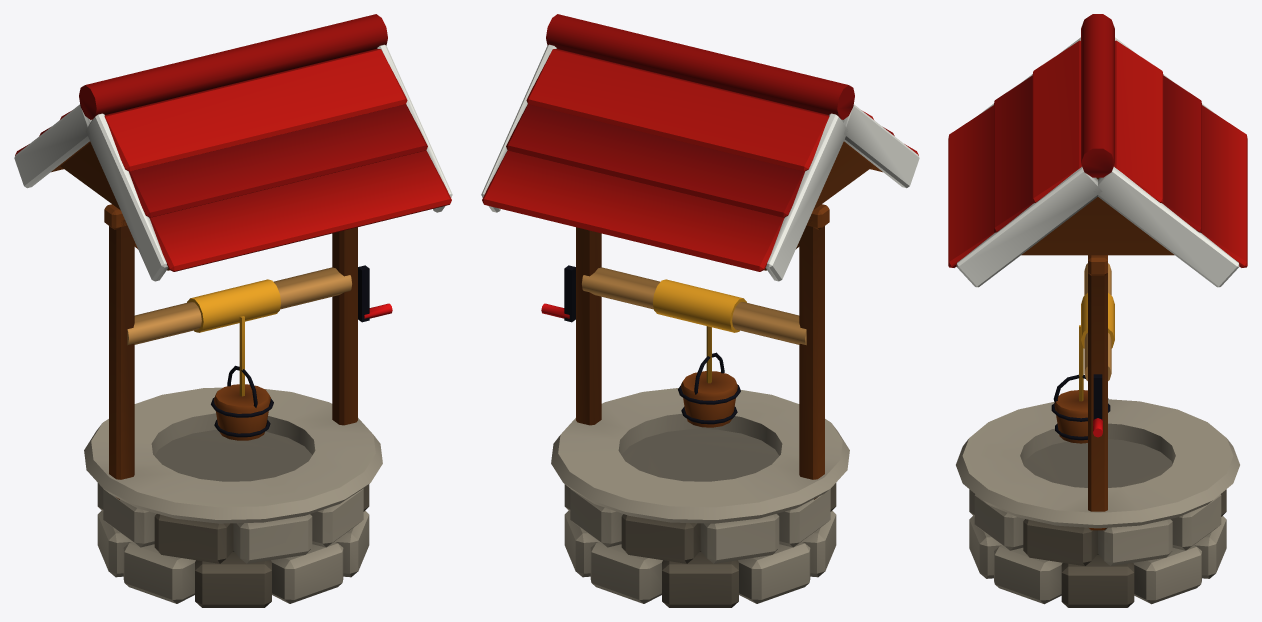
File: Well.fbx
3 views of the same model, side by side, from view 1: azimuth 30°, elevation 25°; view 2: azimuth 150°, elevation 25°; view 3: azimuth 270°, elevation 25° (orthographic). The views are drawn at different scales.
Parts seen in each view (by area): view 1: Well; view 2: Well; view 3: Well.
Part boxes in pixels (x1,y1,x2,y2): Well: [14, 14, 452, 607]; Well: [481, 14, 919, 607]; Well: [948, 14, 1247, 607].
Bounding box in the file's own units: 1.95 × 3.12 × 1.77.
